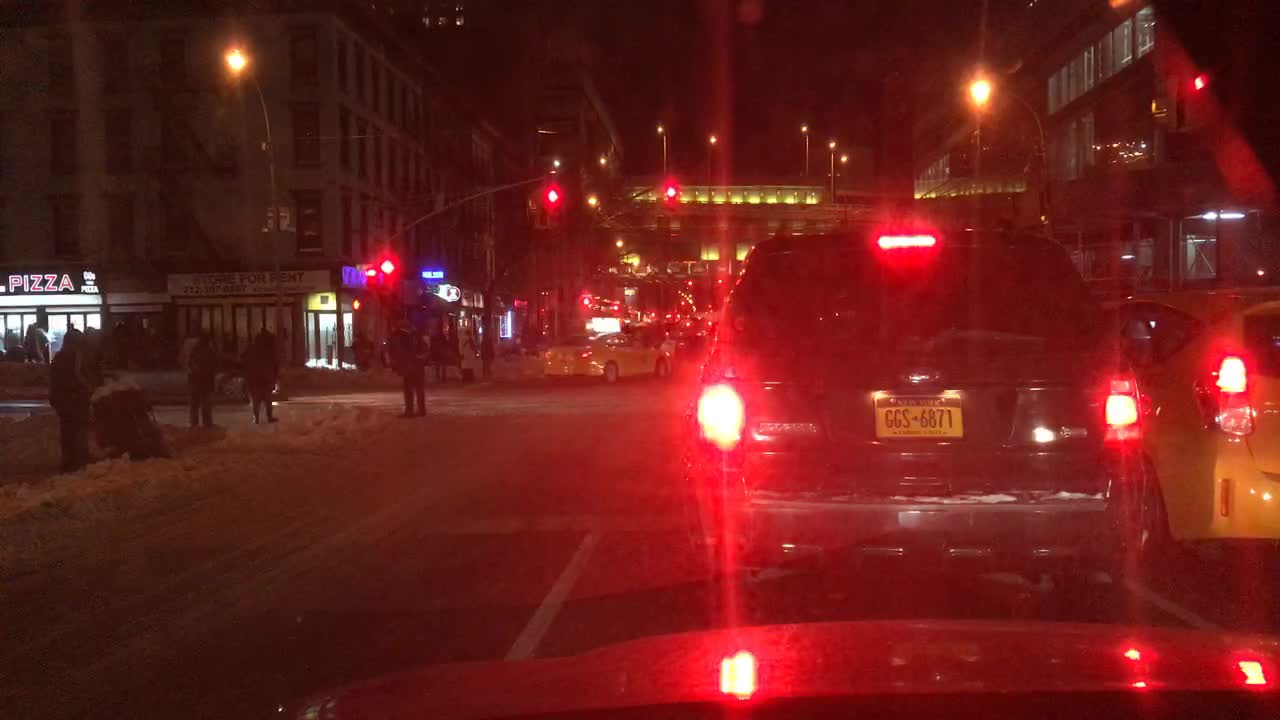car: (703, 226, 1151, 615), (1093, 282, 1279, 584), (113, 348, 282, 400), (539, 325, 679, 381)
person: (48, 324, 85, 471), (240, 326, 284, 424), (182, 329, 223, 429), (390, 324, 427, 418), (457, 320, 480, 385), (431, 319, 452, 387), (22, 319, 50, 364), (86, 326, 102, 403), (480, 326, 497, 382), (350, 331, 369, 364), (1, 324, 18, 355)
traffic light: (1146, 65, 1168, 132), (1188, 74, 1205, 135), (376, 257, 394, 292), (548, 181, 560, 224), (667, 175, 675, 209), (684, 272, 695, 293), (350, 298, 366, 312), (579, 293, 590, 308), (611, 302, 619, 314), (680, 298, 685, 309)
